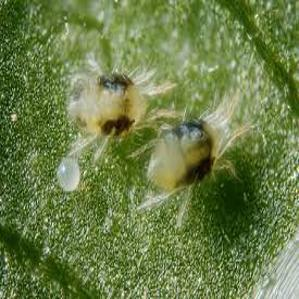spider mite: (133, 90, 261, 228), (57, 54, 161, 156)
